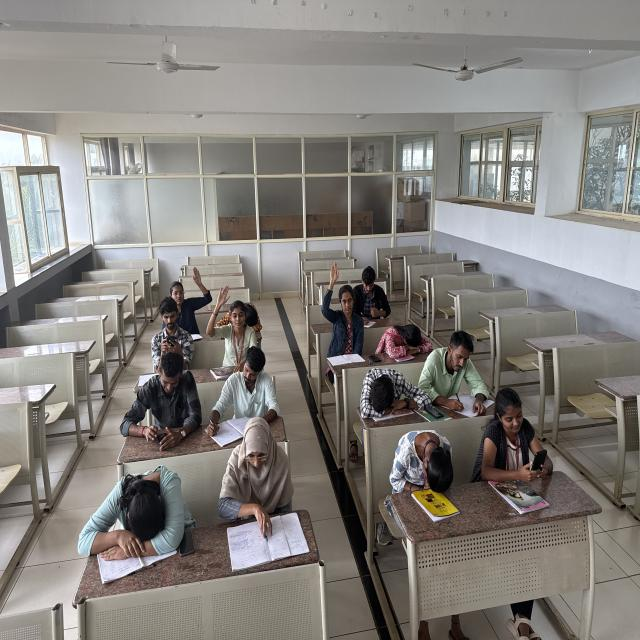Hand Rising: (322, 258, 366, 371), (207, 284, 265, 369), (170, 260, 214, 333)
Sleeping: (73, 458, 195, 571), (386, 422, 459, 503), (357, 363, 426, 429), (373, 318, 435, 367), (223, 302, 269, 336)
Using Phone: (476, 385, 566, 510), (120, 352, 210, 459), (140, 293, 200, 367)
Writing: (220, 415, 299, 562), (206, 344, 279, 448), (417, 323, 494, 415), (350, 264, 392, 329)
